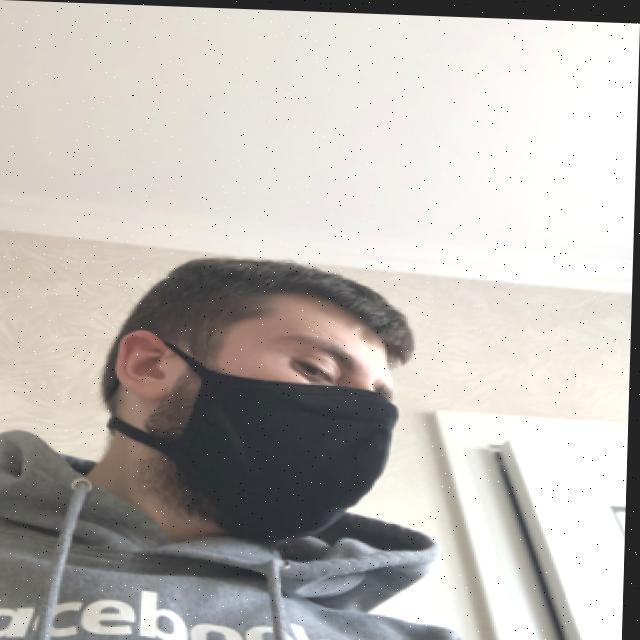Mask: (118, 307, 418, 546)
